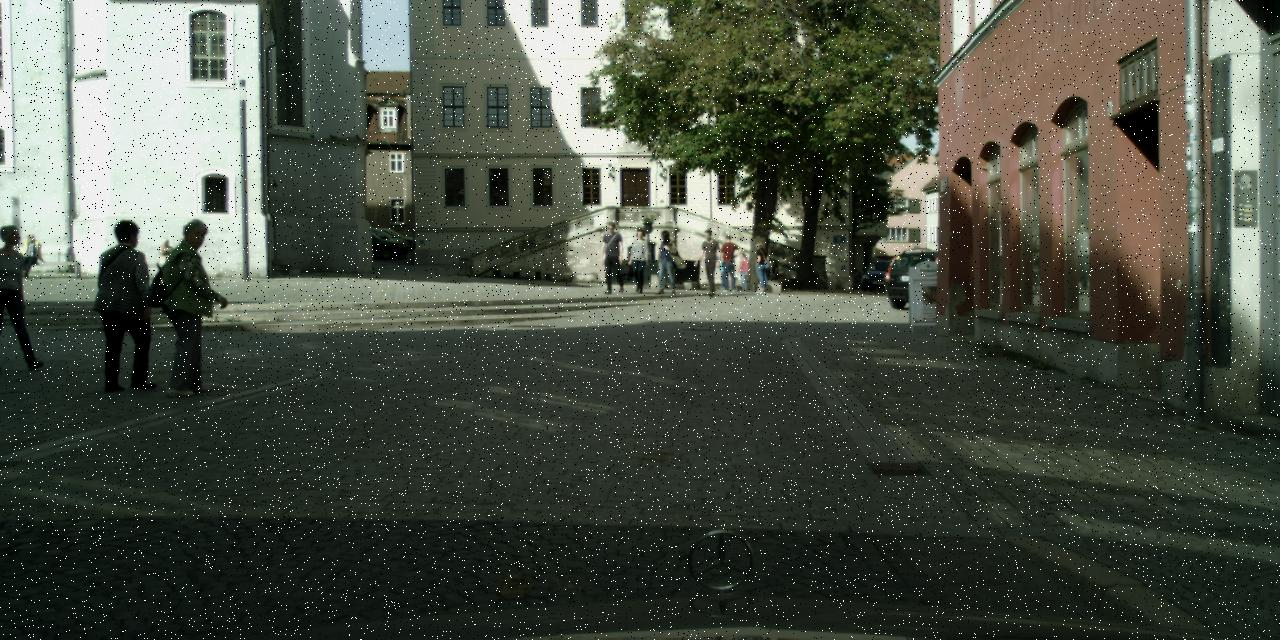ped: (157, 218, 227, 393), (93, 220, 161, 388), (0, 223, 38, 369), (600, 220, 628, 290), (696, 228, 722, 296), (653, 228, 679, 294), (626, 228, 652, 292), (717, 233, 740, 290), (750, 241, 770, 291), (735, 252, 751, 290), (719, 256, 732, 288)
